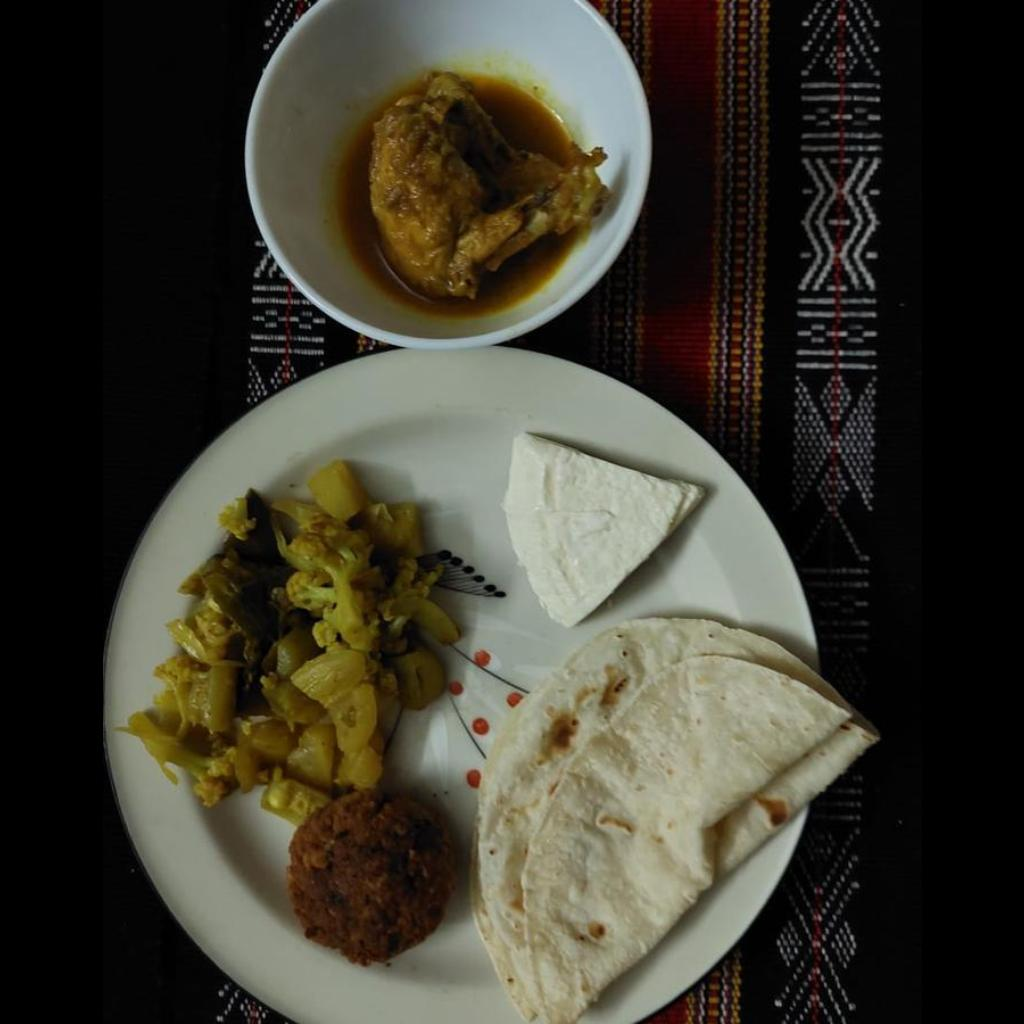chicken: (366, 76, 602, 295)
kabab: (280, 791, 454, 971)
ruti: (467, 435, 872, 1022)
vegetable: (128, 462, 468, 809)
